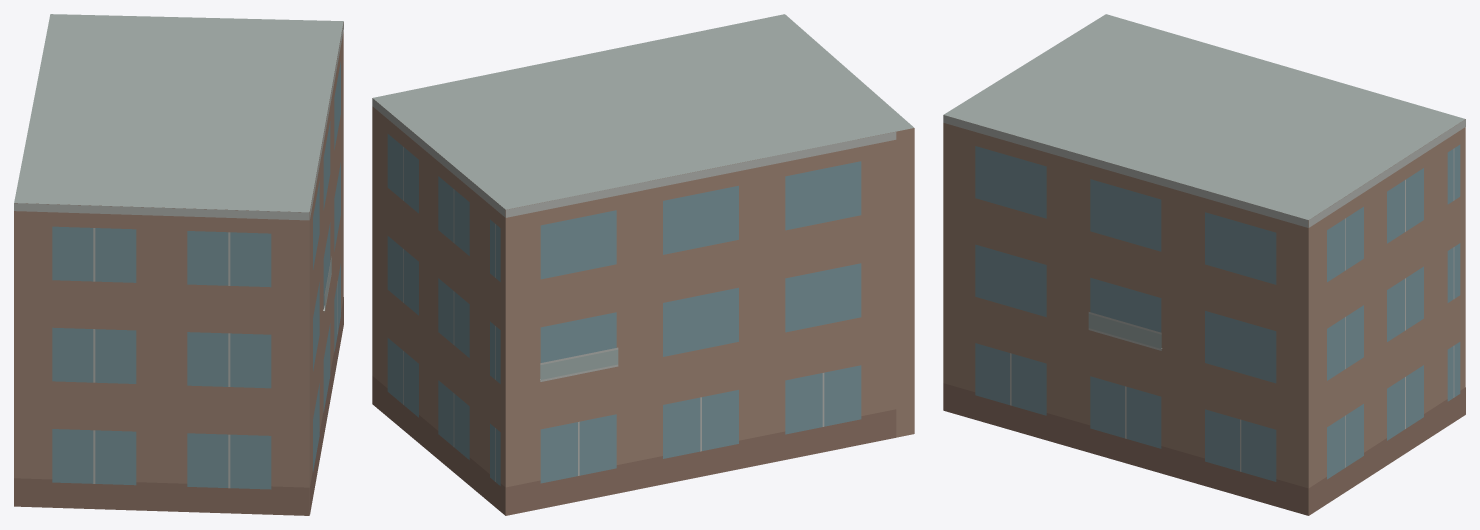
Rendered from survey-upis-32973542.glb.
3 views of the same model, side by side, from view 1: azimuth 30°, elevation 25°; view 2: azimuth 150°, elevation 25°; view 3: azimuth 270°, elevation 25° (orthographic). The views are drawn at different scales.
Parts seen in each view (by area): view 1: survey-upis-32973542.tmp; view 2: survey-upis-32973542.tmp; view 3: survey-upis-32973542.tmp.
Part boxes in pixels (x1,y1,x2,y2): survey-upis-32973542.tmp: [14, 14, 343, 515]; survey-upis-32973542.tmp: [372, 14, 914, 515]; survey-upis-32973542.tmp: [943, 14, 1465, 515].
Size of the model in its own units: 13.69 by 9.15 by 14.66.
